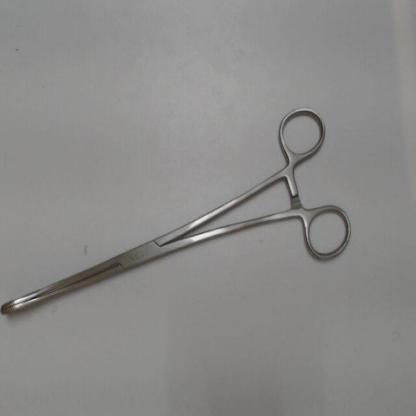Sponge Forceps: (0, 102, 360, 332)
